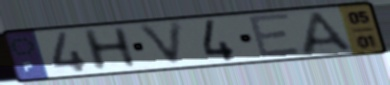4: (49, 30, 90, 74), (201, 17, 239, 64)
A: (300, 9, 359, 57)
E: (245, 11, 304, 61)
H: (79, 25, 141, 73)
V: (134, 19, 187, 69)
